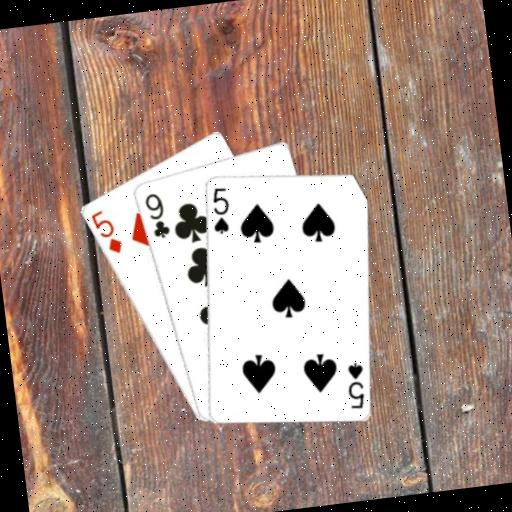5D: (87, 205, 125, 259)
5S: (205, 183, 234, 236), (341, 358, 369, 411)
9C: (140, 189, 172, 242)
